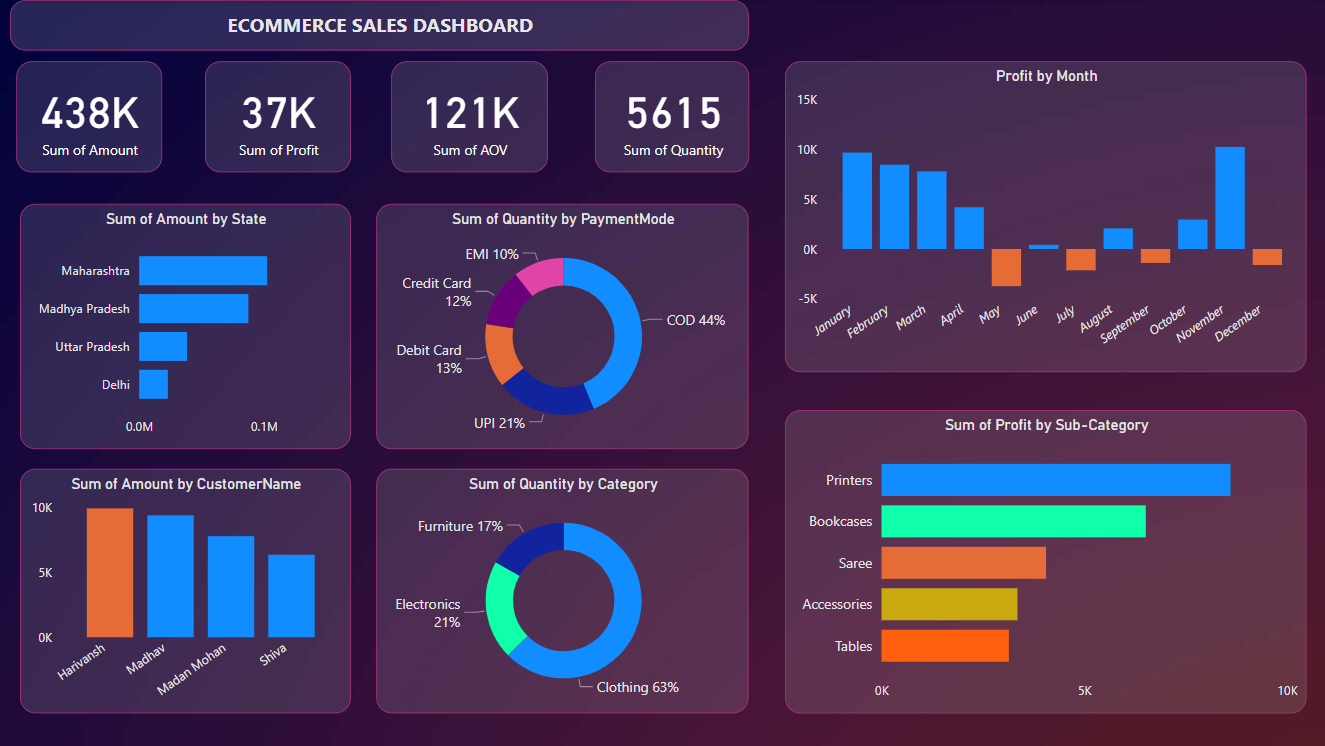

The page's visual inventory and layout, read from the dashboard file:
{"tool":"powerbi","page":{"name":"Page 1","canvas":[1280,720],"ordinal":0},"visuals":[{"type":"textbox","box":[9.5,0,713.1,48.8],"z":0},{"type":"columnChart","title":"Profit by Month","fields":{"Category":["Orders.Order Date.Variation.Date Hierarchy.Month"],"Y":["Details.Profit"]},"box":[757.1,59.5,503.6,300],"z":1000},{"type":"barChart","fields":{"Category":["Details.Sub-Category"],"Y":["Details.Profit"]},"box":[757.1,395.2,503.6,292.9],"z":2000},{"type":"donutChart","fields":{"Y":["Details.Quantity"],"Category":["Details.Category"]},"box":[363.1,452.4,359.5,235.7],"z":3000},{"type":"donutChart","fields":{"Y":["Details.Quantity"],"Category":["Details.PaymentMode"]},"box":[363.1,196.4,359.5,236.9],"z":4000},{"type":"card","fields":{"Values":["Details.Amount"]},"box":[15.5,59.5,140.5,107.1],"z":5000},{"type":"card","fields":{"Values":["Details.Quantity"]},"box":[573.8,59.5,148.8,107.1],"z":6000},{"type":"card","fields":{"Values":["Details.Profit"]},"box":[197.6,59.5,140.5,107.1],"z":7000},{"type":"card","fields":{"Values":["Details.AOV"]},"box":[377.4,59.5,151.2,107.1],"z":8000},{"type":"barChart","fields":{"Category":["Orders.State"],"Y":["Details.Amount"]},"box":[19,196.4,319,236.9],"z":9000},{"type":"columnChart","fields":{"Category":["Orders.CustomerName"],"Y":["Details.Amount"]},"box":[19,452.4,319,235.7],"z":10000}]}

Visuals, with their boxes in screenshot pixels (x1, y1, x2, y2), scaled from the page's 1280x720 canvas onto the 1325x746 screenshot:
textbox: [10,0,748,51]
"Profit by Month" columnChart: [784,62,1305,372]
barChart - Details.Sub-Category x Details.Profit: [784,409,1305,713]
donutChart - Details.Quantity x Details.Category: [376,469,748,713]
donutChart - Details.Quantity x Details.PaymentMode: [376,203,748,449]
card - Details.Amount: [16,62,161,173]
card - Details.Quantity: [594,62,748,173]
card - Details.Profit: [205,62,350,173]
card - Details.AOV: [391,62,547,173]
barChart - Orders.State x Details.Amount: [20,203,350,449]
columnChart - Orders.CustomerName x Details.Amount: [20,469,350,713]
